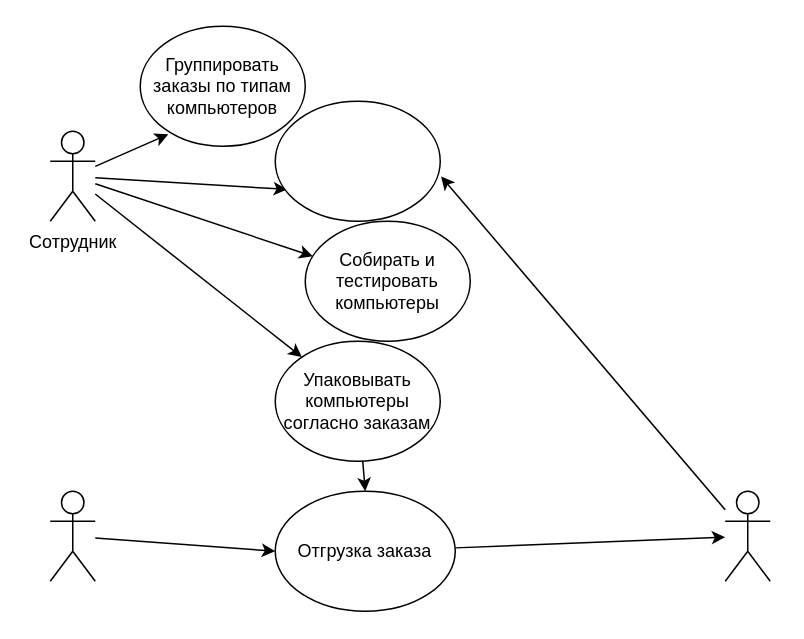
The diagram is 804 pixels wide and 639 high, and some of its shapes have lost their labels. Here are the shapes that lost their labels. From the top down, the centre of each, then its label:
(x=357, y=160): Принять заказ
(x=72, y=535): Кладовщик
(x=747, y=535): Клиент
